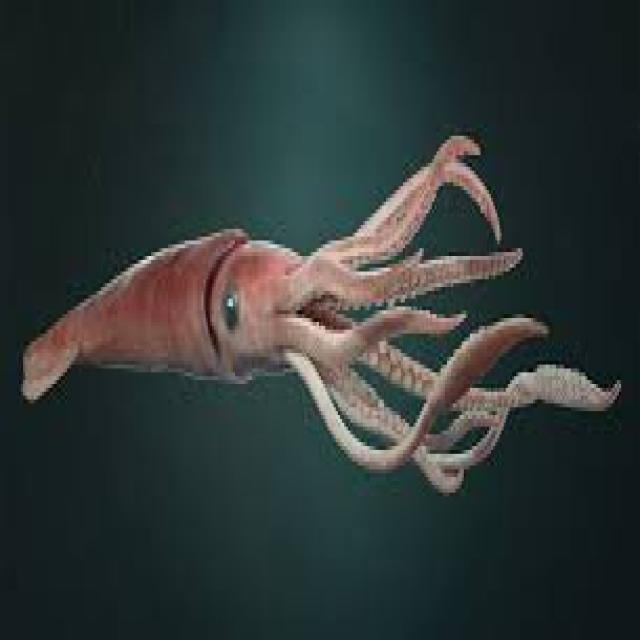squid: (21, 136, 617, 489)
